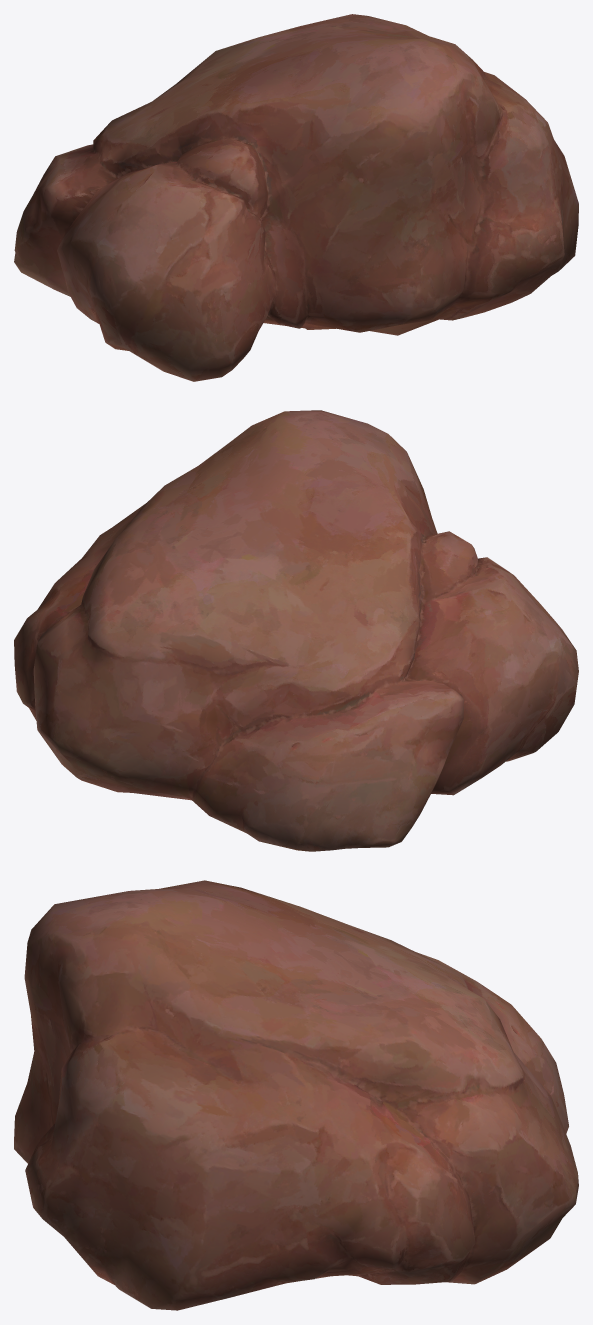
The model's file is Level_Xm_Rock_CWSM_Full_L_11.fbx.
3 renders of one model, top to bottom at view 1: azimuth 30°, elevation 25°; view 2: azimuth 150°, elevation 25°; view 3: azimuth 270°, elevation 25°, orthographic. The views are drawn at different scales.
Visible parts, largest first — view 1: Level_Xm_Rock_CWSM_Full_L_11_Lod0; view 2: Level_Xm_Rock_CWSM_Full_L_11_Lod0; view 3: Level_Xm_Rock_CWSM_Full_L_11_Lod0.
Boxes of the visible parts, x1=… form: Level_Xm_Rock_CWSM_Full_L_11_Lod0: x1=14, y1=14, x2=578, y2=381; Level_Xm_Rock_CWSM_Full_L_11_Lod0: x1=14, y1=410, x2=578, y2=851; Level_Xm_Rock_CWSM_Full_L_11_Lod0: x1=14, y1=880, x2=578, y2=1310.
Bounding box in the file's own units: 11.06 × 6.54 × 9.39.
Materials: 1 (1 with a texture image).
